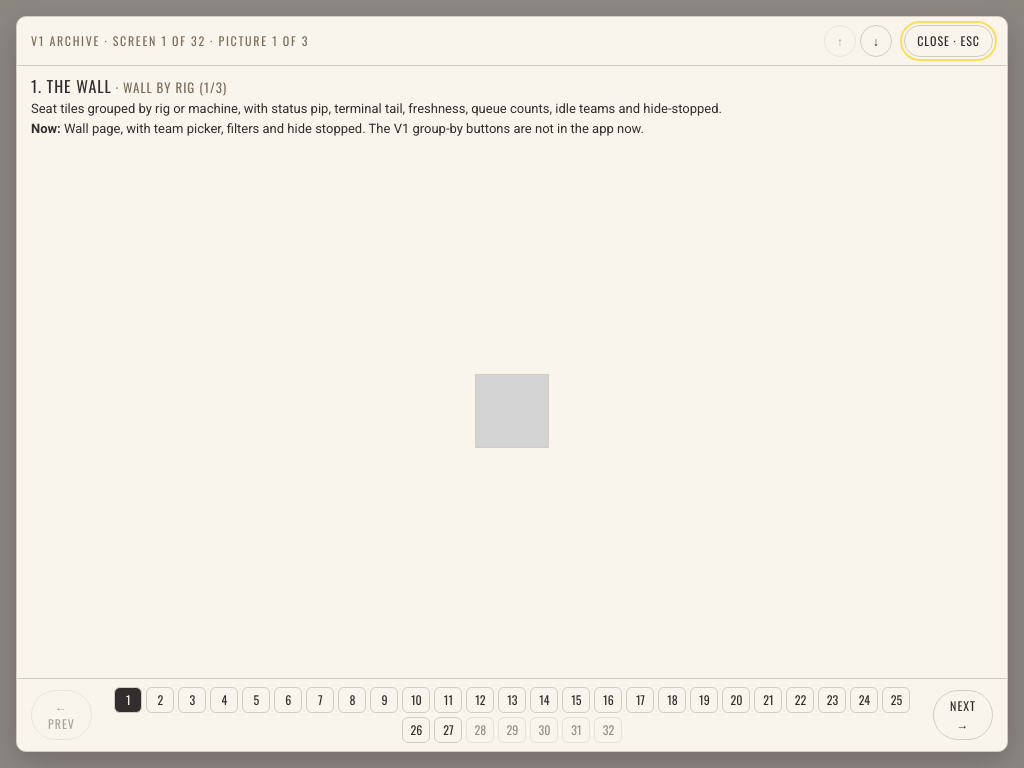
V1 archive viewer › says so when a row never had a screenshot
Click the button with test id "v1-archive-jump-32" at [608, 730], box [594,717,622,743]
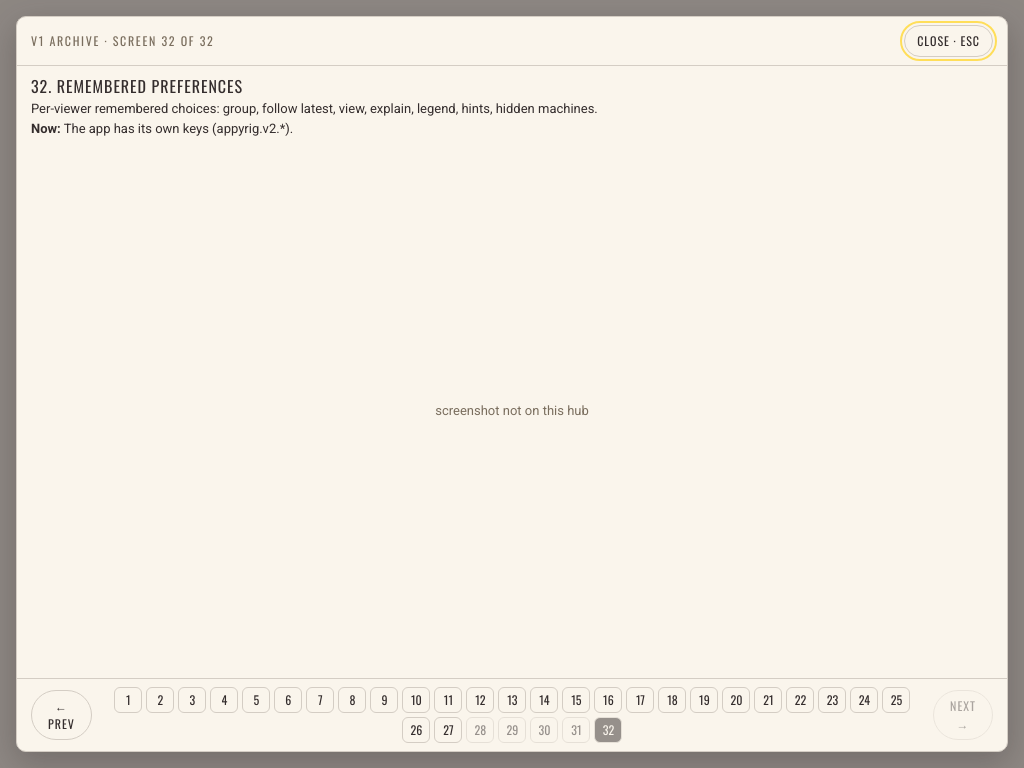
Expected: the text with test id "v1-archive-missing" reads "screenshot not on this hub", [435,403,589,418]
Expected: the text with test id "v1-archive-count" reads "V1 archive · screen 32 of 32", [31,32,214,50]
Expected: the button with test id "v1-archive-next" is disabled, [933,690,993,740]
